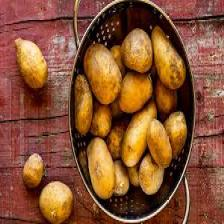Diseased-fungal potato: (150, 18, 190, 93), (85, 41, 121, 105), (14, 34, 49, 96), (84, 136, 116, 201), (121, 26, 155, 75), (145, 117, 174, 172), (39, 180, 75, 223), (72, 71, 90, 137), (162, 110, 186, 156), (23, 149, 44, 189)
Potato: (120, 98, 155, 167), (116, 72, 152, 114), (136, 151, 163, 194), (90, 104, 114, 137)
